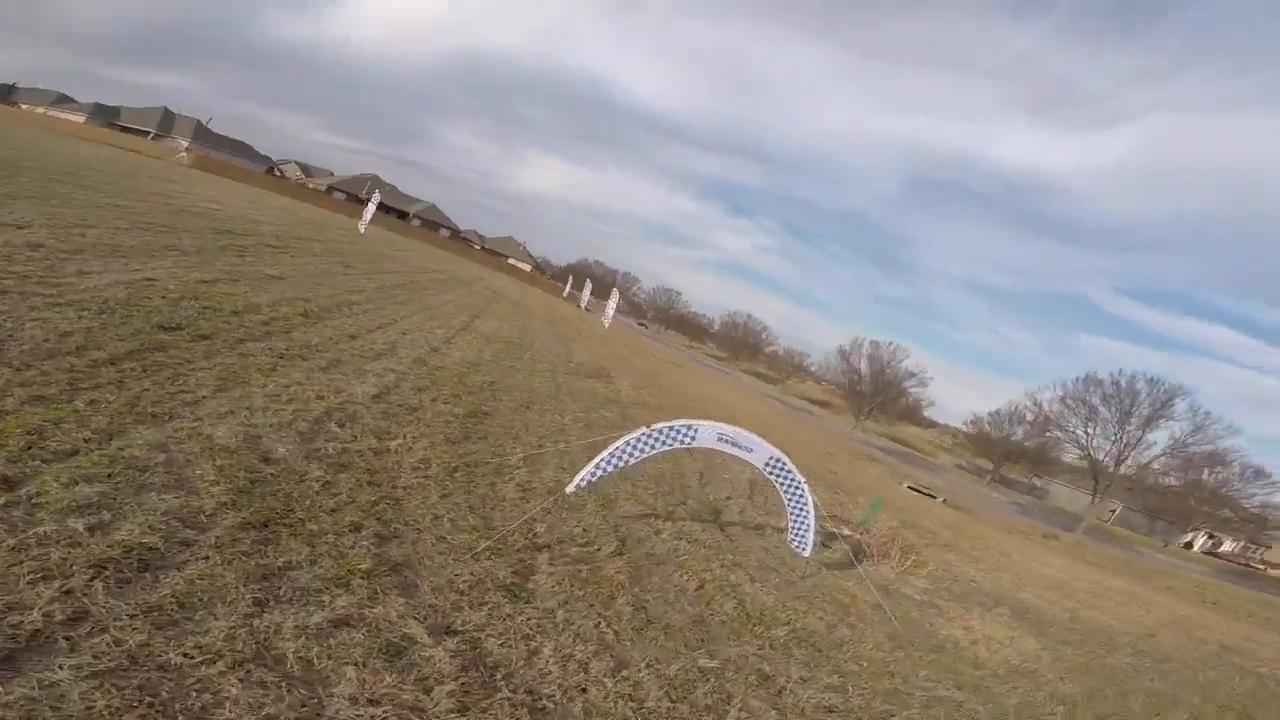gate: (560, 419, 819, 568)
